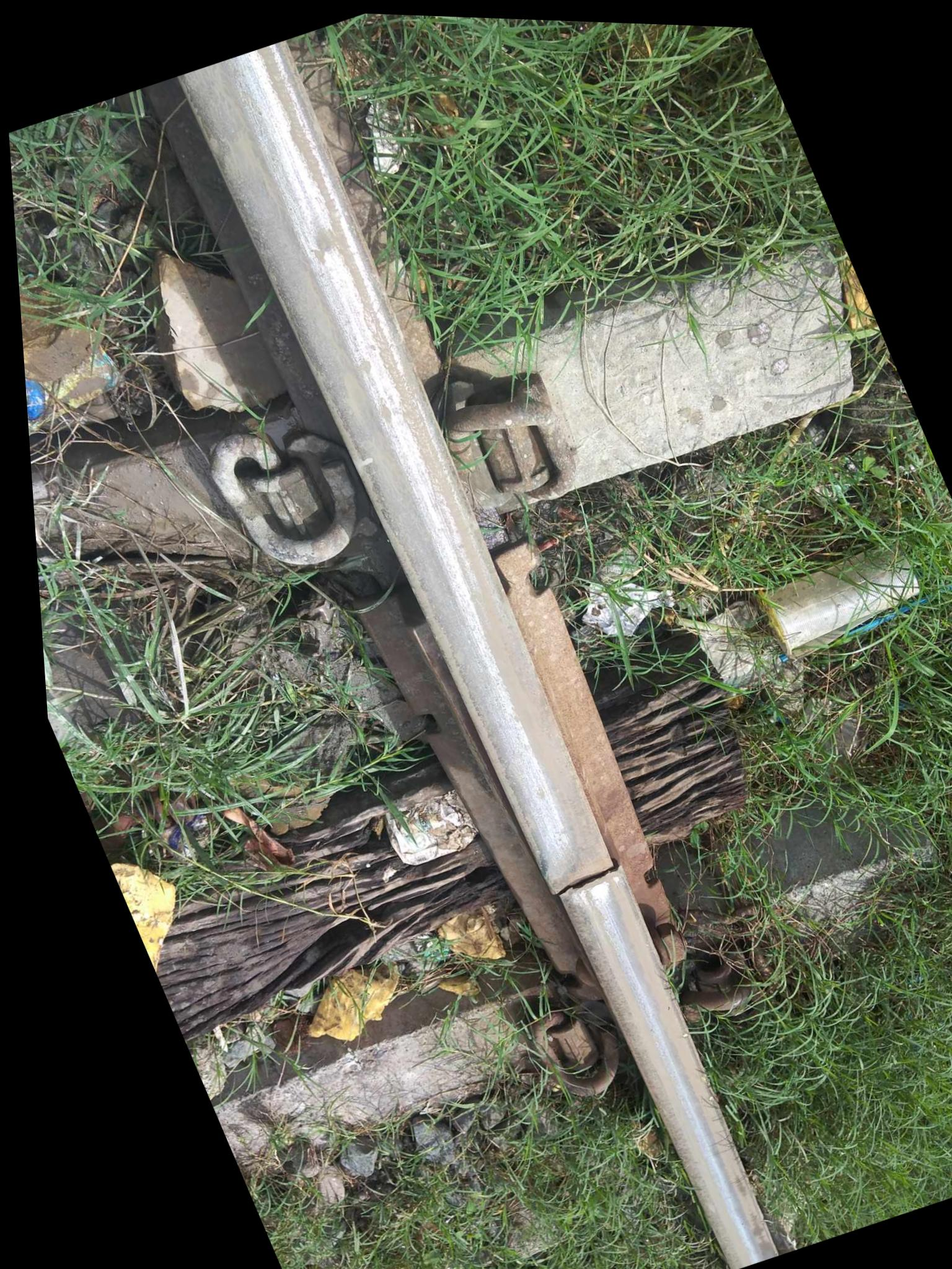person: (470, 786, 672, 970)
